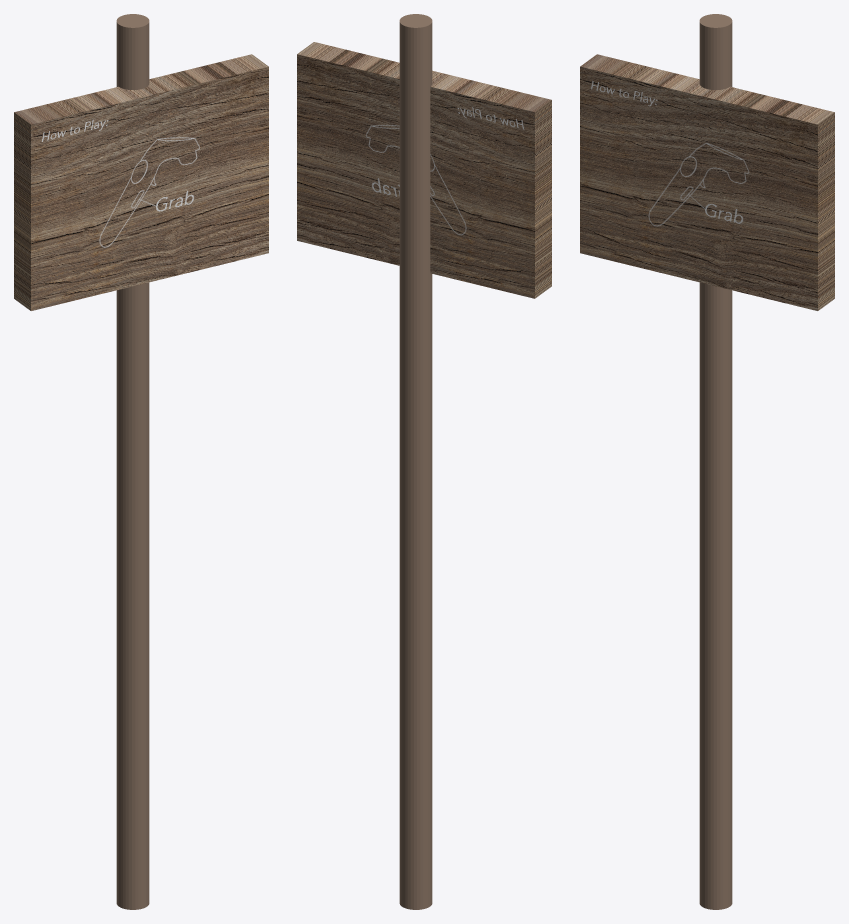
The model's file is sign.fbx.
3 renders of one model, left to right at view 1: azimuth 30°, elevation 25°; view 2: azimuth 150°, elevation 25°; view 3: azimuth 330°, elevation 25°, orthographic.
Parts seen in each view (by area): view 1: sign; view 2: sign; view 3: sign.
Boxes of the visible parts, bbox=[...] form: sign: bbox=[14, 14, 268, 909]; sign: bbox=[297, 14, 551, 909]; sign: bbox=[580, 14, 834, 909].
Size of the model in its own units: 133 by 473 by 24.41.
1 material, 1 textured.
